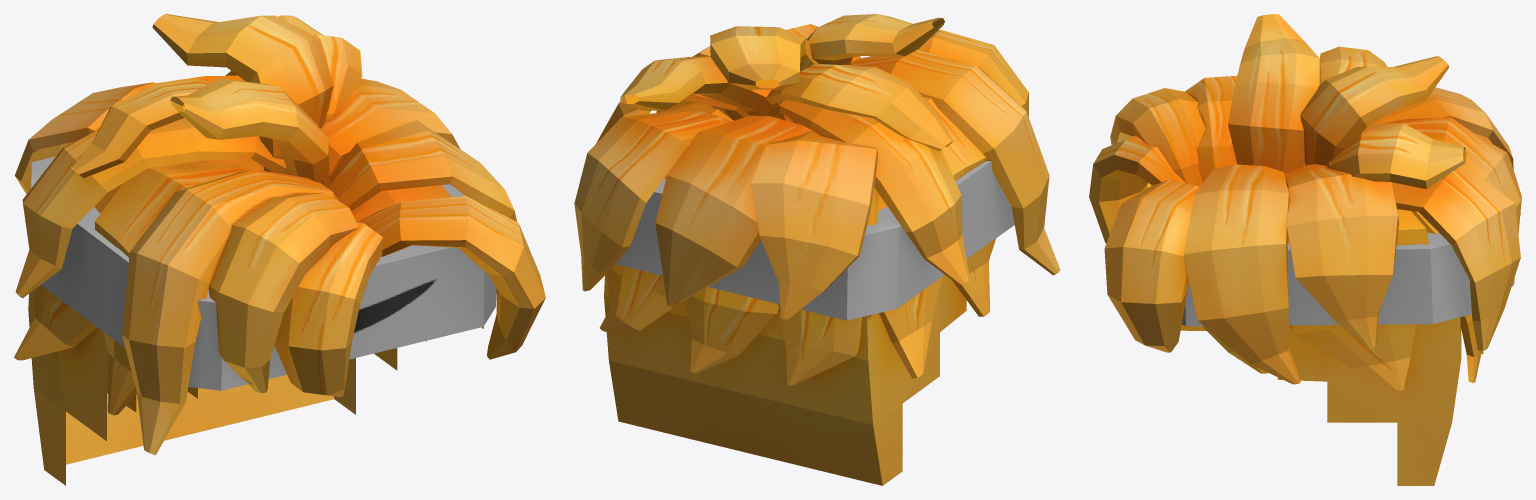
File: Toc 3.fbx
3 views of the same model, side by side, from view 1: azimuth 30°, elevation 25°; view 2: azimuth 150°, elevation 25°; view 3: azimuth 270°, elevation 25° (orthographic). The views are drawn at different scales.
Parts seen in each view (by area): view 1: Toc3; view 2: Toc3; view 3: Toc3.
Boxes of the visible parts, box(x1,y1,x2,y2) form: Toc3: box(14, 14, 545, 485); Toc3: box(574, 14, 1060, 485); Toc3: box(1089, 14, 1521, 485).
Size of the model in its own units: 6.33 by 6.38 by 6.81.
1 material, 1 textured.
